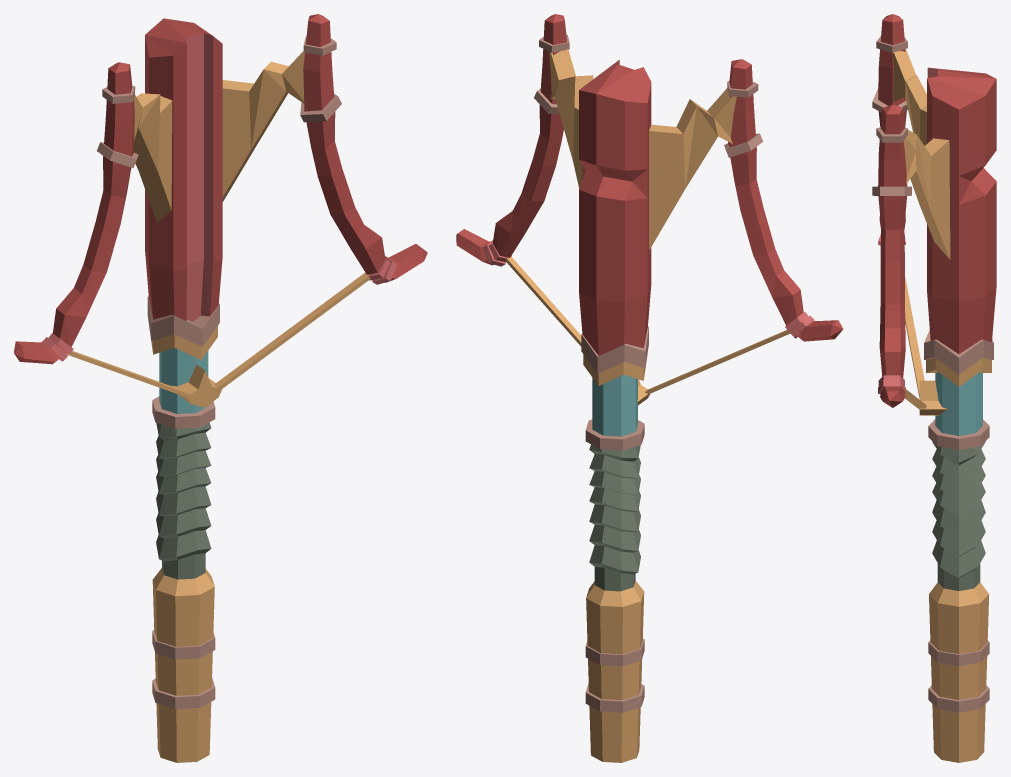
File: _crossbow_5.glb
3 renders of one model, left to right at view 1: azimuth 30°, elevation 25°; view 2: azimuth 150°, elevation 25°; view 3: azimuth 270°, elevation 25°, orthographic. The views are drawn at different scales.
Visible parts, largest first — view 1: crossbow_5; view 2: crossbow_5; view 3: crossbow_5.
Boxes of the visible parts, bbox=[...] form: crossbow_5: bbox=[14, 14, 427, 762]; crossbow_5: bbox=[456, 14, 843, 762]; crossbow_5: bbox=[872, 14, 996, 762].
Size of the model in its own units: 17232 by 29436 by 4786.
1 material, 1 textured.
